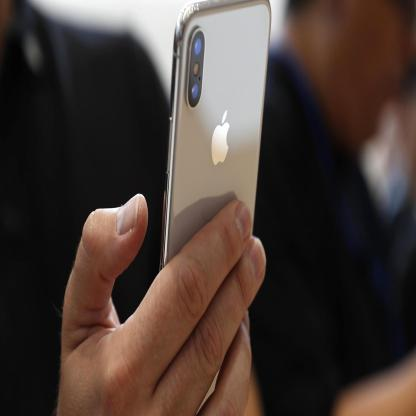smartphone: (157, 0, 271, 277)
